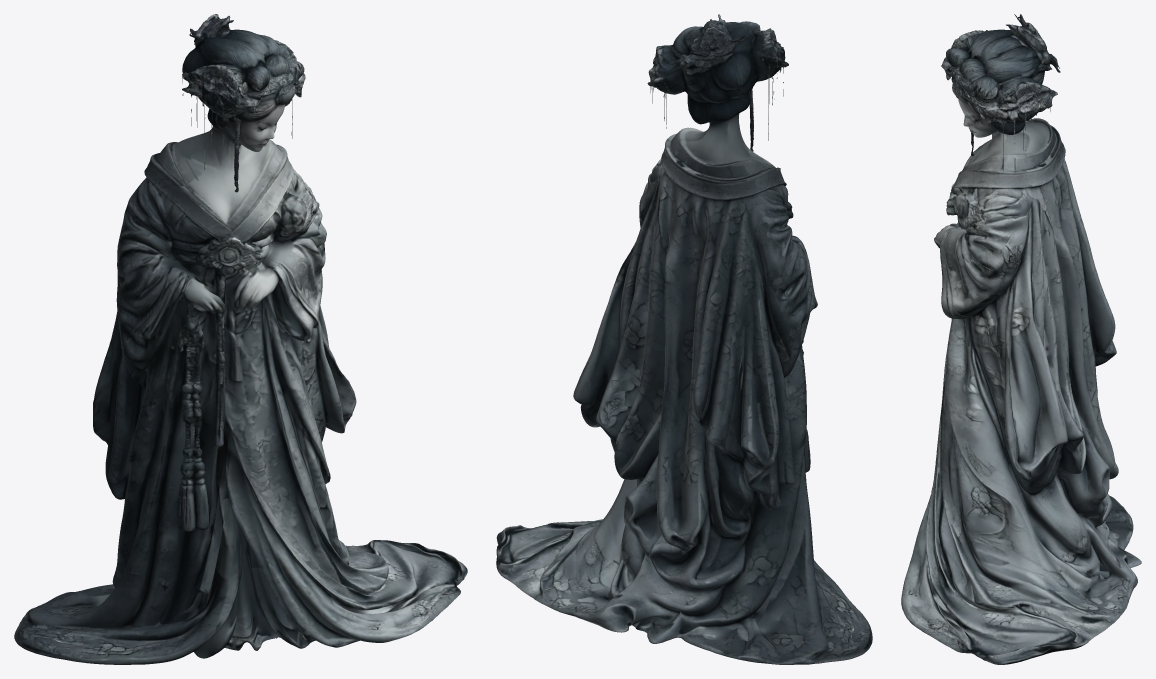
The model's file is queen.glb.
The picture shows the model from 3 angles, left to right: view 1: azimuth 30°, elevation 25°; view 2: azimuth 150°, elevation 25°; view 3: azimuth 270°, elevation 25°; orthographic projection. The views are drawn at different scales.
Visible parts, largest first — view 1: tmp5f1xib00obj; view 2: tmp5f1xib00obj; view 3: tmp5f1xib00obj.
Boxes of the visible parts, x1,y1,x2,y2 form: tmp5f1xib00obj: [14, 14, 467, 664]; tmp5f1xib00obj: [496, 14, 872, 664]; tmp5f1xib00obj: [901, 14, 1141, 664].
Bounding box in the file's own units: 0.7166 × 1 × 0.4025.
1 material, 1 textured.
